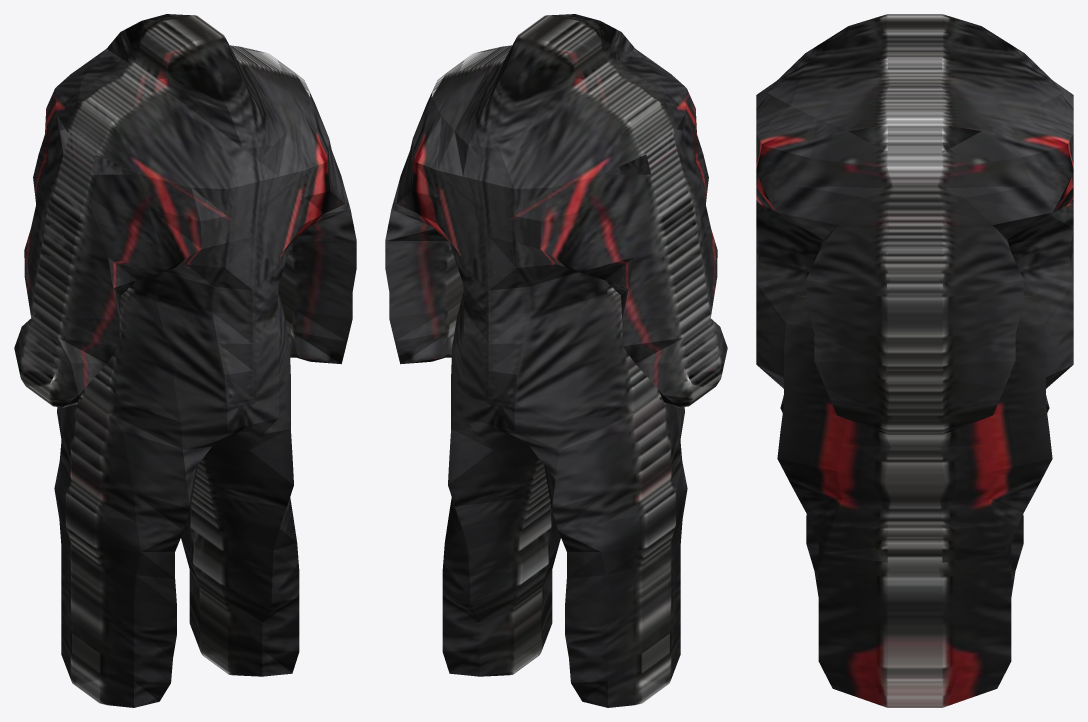
The model's file is kriega-apex-rain-gear-043.glb.
The picture shows the model from 3 angles, left to right: view 1: azimuth 30°, elevation 25°; view 2: azimuth 150°, elevation 25°; view 3: azimuth 270°, elevation 25°; orthographic projection.
Visible parts, largest first — view 1: world; view 2: world; view 3: world.
Boxes of the visible parts, x1,y1,x2,y2 form: world: [14, 14, 356, 707]; world: [385, 14, 727, 707]; world: [756, 14, 1073, 707].
Bounding box in the file's own units: 0.4792 × 1 × 0.44.
1 material, 1 textured.
